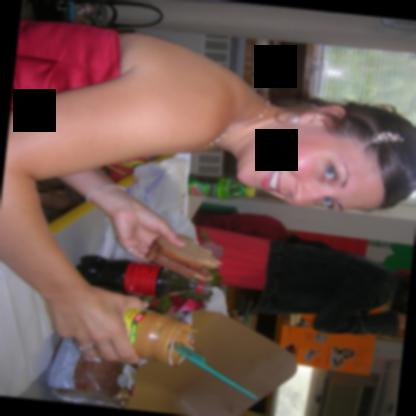handbag: (26, 0, 163, 28)
